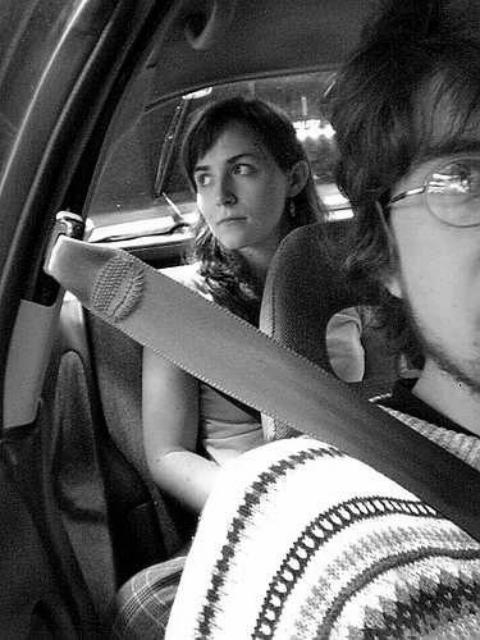SafeDriving: (409, 145, 480, 220), (226, 156, 262, 182), (190, 164, 220, 190)
Seatbelt: (44, 219, 480, 556)
